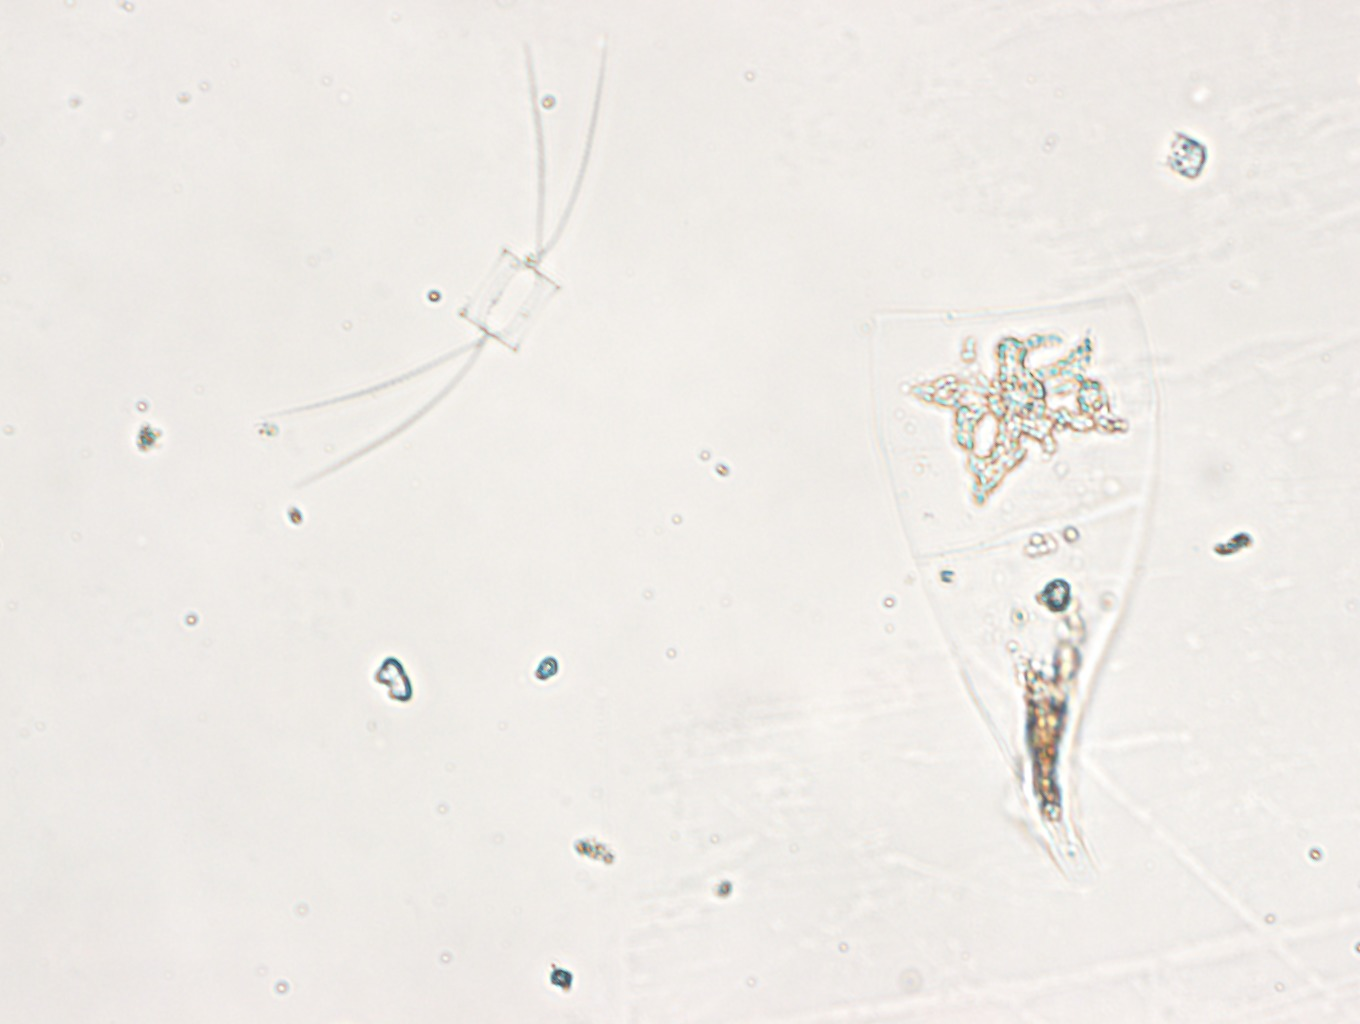chaetoceros: (261, 31, 611, 488)
helicotheca: (864, 291, 1163, 874)
